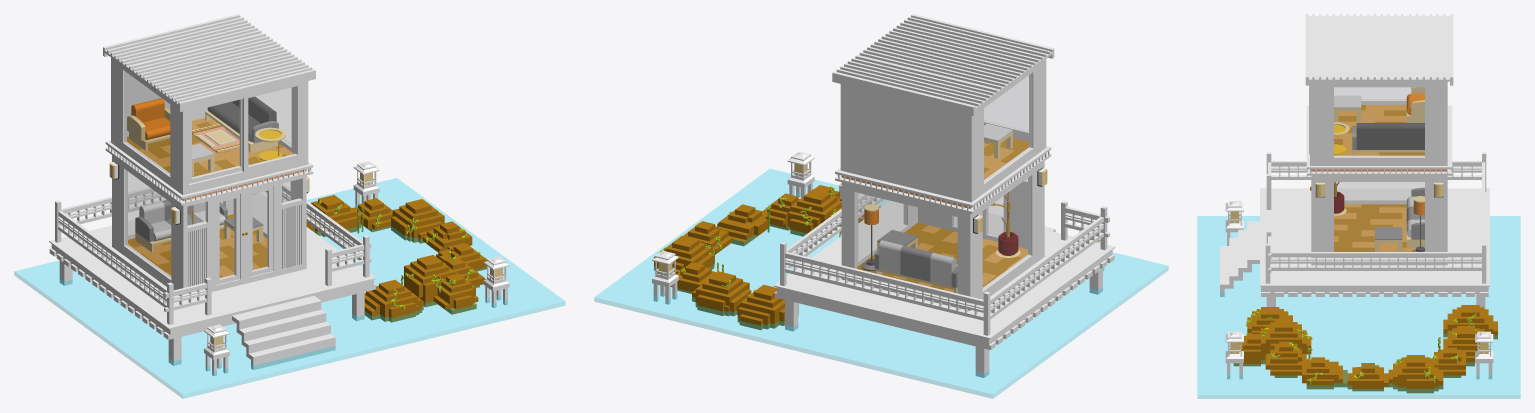
The model's file is courtyard_building.glb.
The picture shows the model from 3 angles, left to right: view 1: azimuth 30°, elevation 25°; view 2: azimuth 150°, elevation 25°; view 3: azimuth 270°, elevation 25°; orthographic projection. The views are drawn at different scales.
Visible parts, largest first — view 1: box (×68); view 2: box (×56); view 3: box (×48).
Part boxes in pixels (x1,y1,x2,y2): box (×68): [14, 14, 565, 398]; box (×56): [594, 14, 1168, 398]; box (×48): [1197, 16, 1520, 398].
Size of the model in its own units: 93 by 56 by 71.
